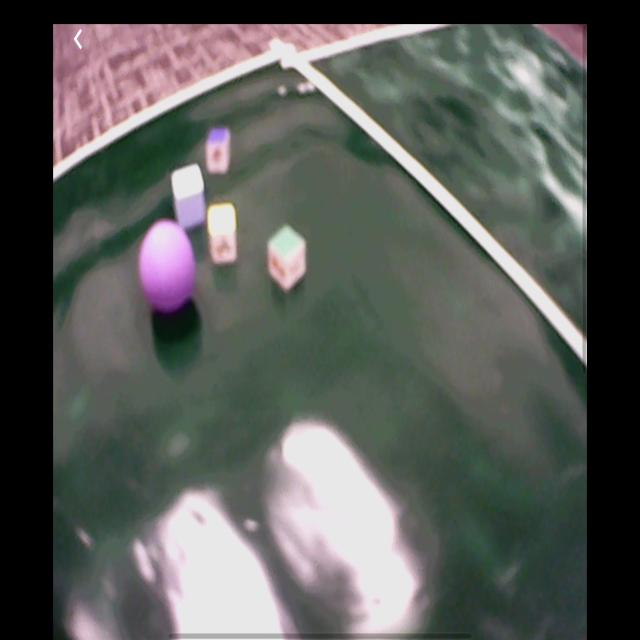ball: (137, 218, 197, 314)
